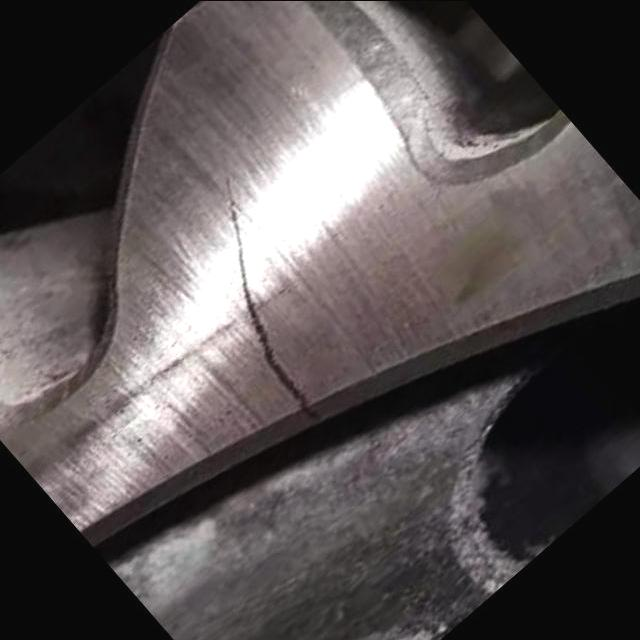defect: (214, 163, 326, 424)
